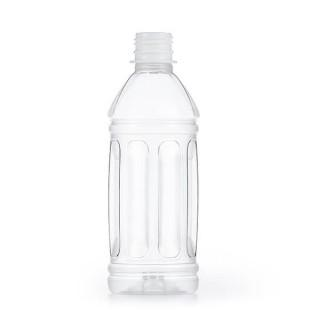bottle: (100, 0, 208, 133)
